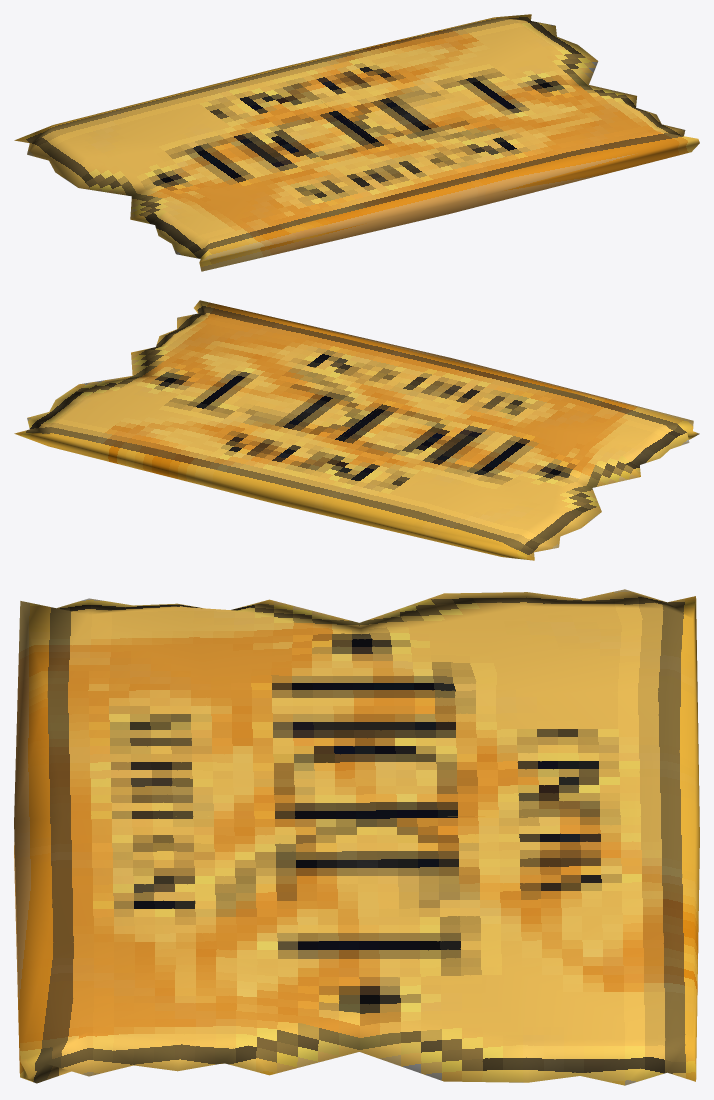
Rendered from WorldItem_HCMovieTicket.fbx.
The picture shows the model from 3 angles, top to bottom: view 1: azimuth 30°, elevation 25°; view 2: azimuth 150°, elevation 25°; view 3: azimuth 270°, elevation 25°; orthographic projection. The views are drawn at different scales.
Visible parts, largest first — view 1: MovieTicket; view 2: MovieTicket; view 3: MovieTicket.
Boxes of the visible parts, x1,y1,x2,y2 form: MovieTicket: (14,14,699,271); MovieTicket: (14,300,699,560); MovieTicket: (14,589,699,1085).
Bounding box in the file's own units: 0.0509 × 0.00209 × 0.0297.
